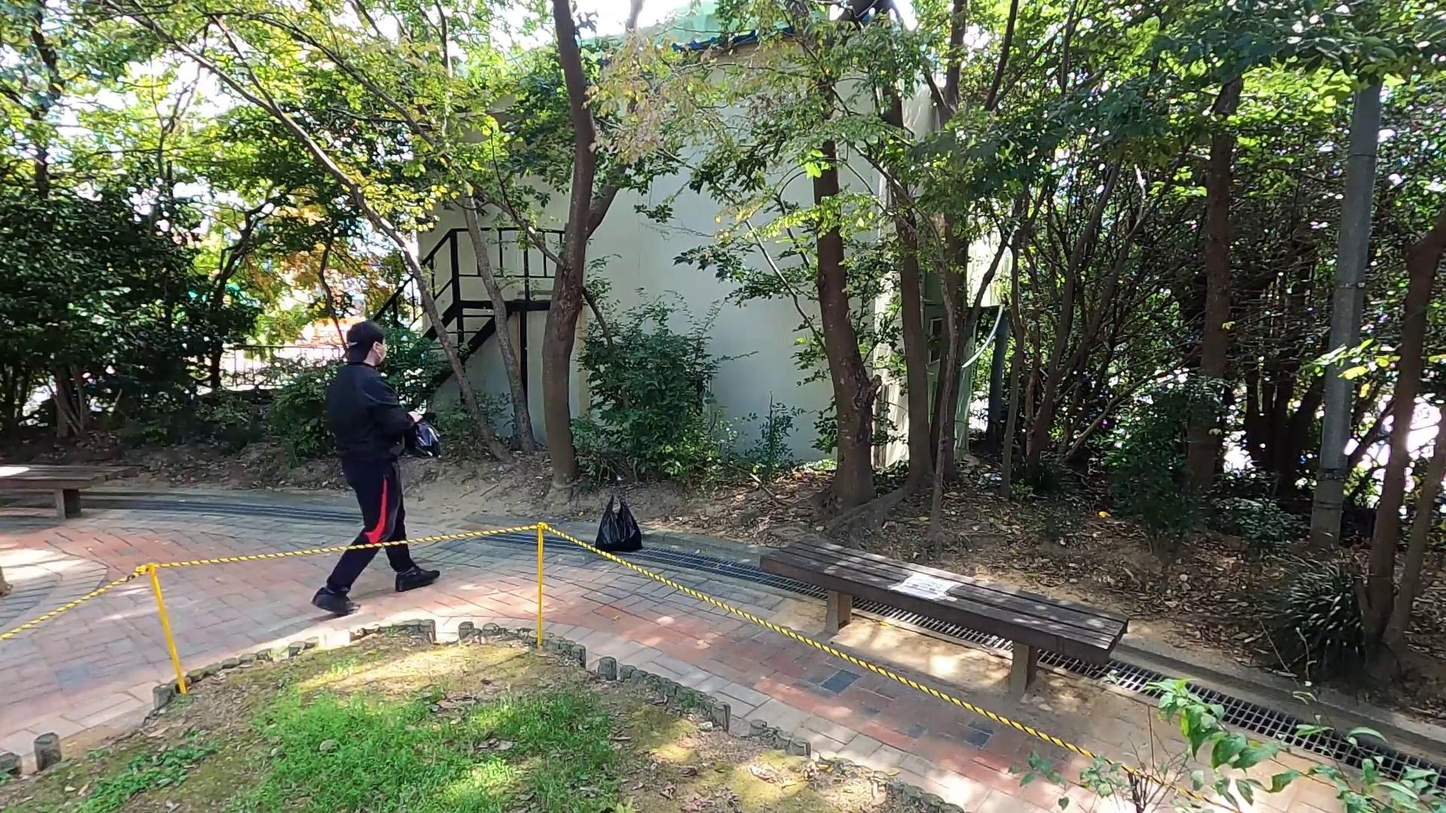person: (307, 324, 449, 610)
trash: (589, 494, 650, 554), (397, 409, 440, 458)
